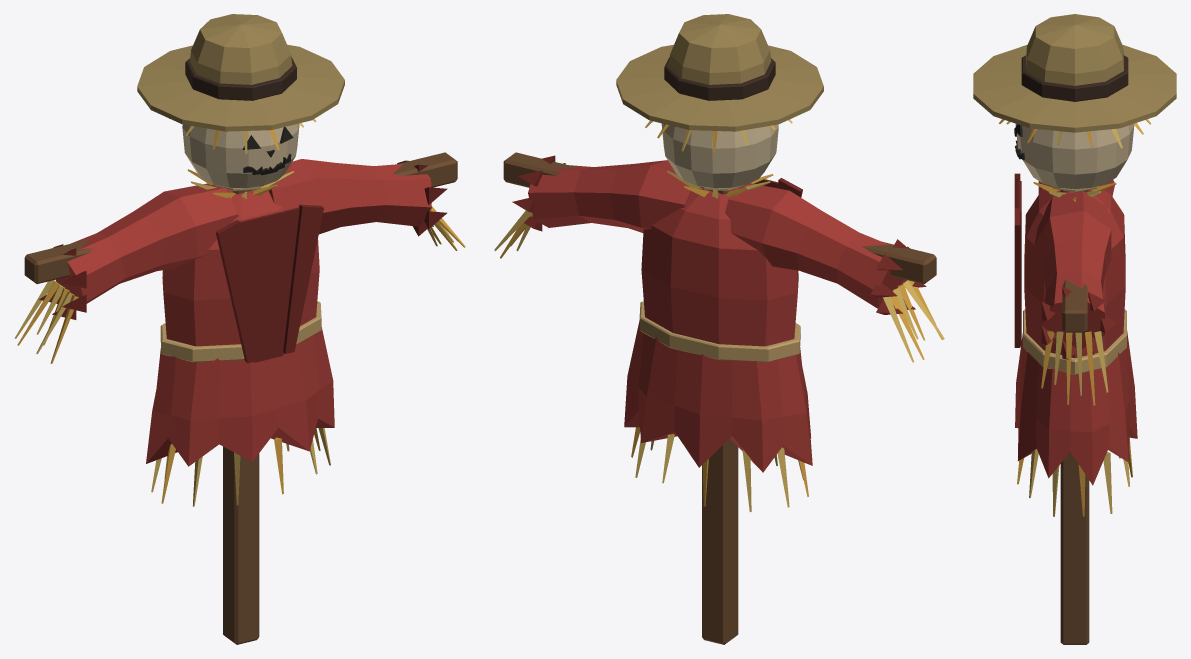
Rendered from mdvl_farm_scarecrow_01.glb.
3 renders of one model, left to right at view 1: azimuth 30°, elevation 25°; view 2: azimuth 150°, elevation 25°; view 3: azimuth 270°, elevation 25°, orthographic.
Parts seen in each view (by area): view 1: mdvl_farm_scarecrow_01; view 2: mdvl_farm_scarecrow_01; view 3: mdvl_farm_scarecrow_01.
Part boxes in pixels (x1,y1,x2,y2): mdvl_farm_scarecrow_01: [14, 14, 465, 644]; mdvl_farm_scarecrow_01: [494, 14, 944, 644]; mdvl_farm_scarecrow_01: [973, 14, 1176, 644].
Bounding box in the file's own units: 1.38 × 1.88 × 0.5655.
1 material, 1 textured.
